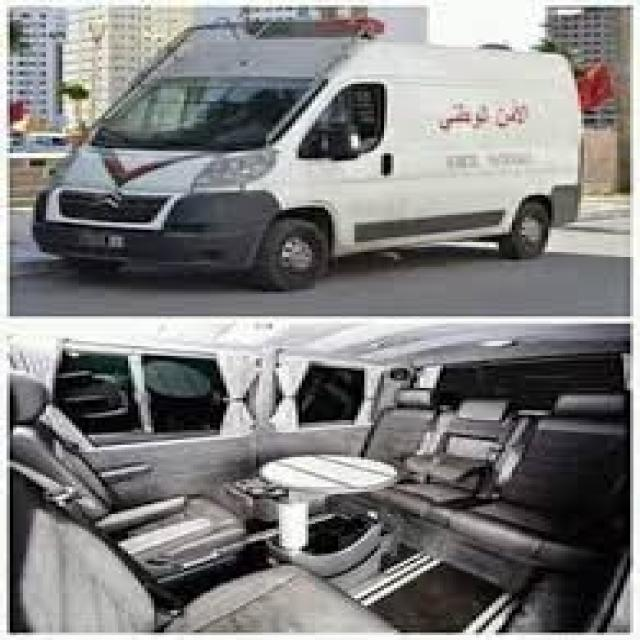police: (36, 16, 583, 308)
